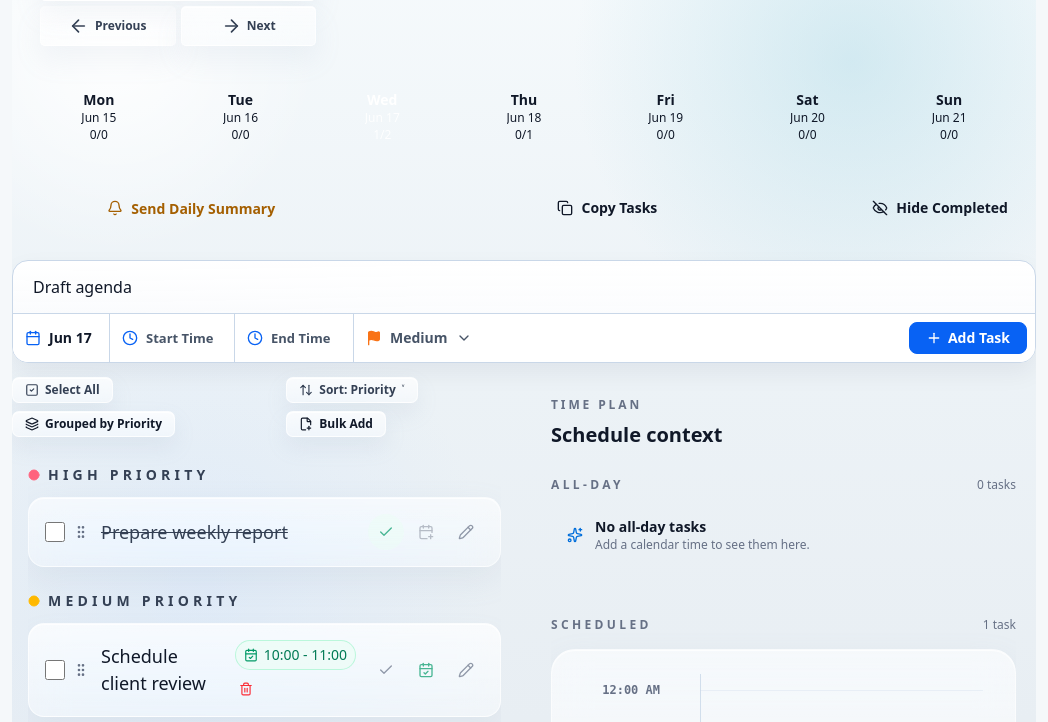
Test: AdminView › renders priority as a dropdown menu with selected and option flags
(page scrolled)
Click the dropdown named "Task priority" at (419, 338), box [354,316,484,360]
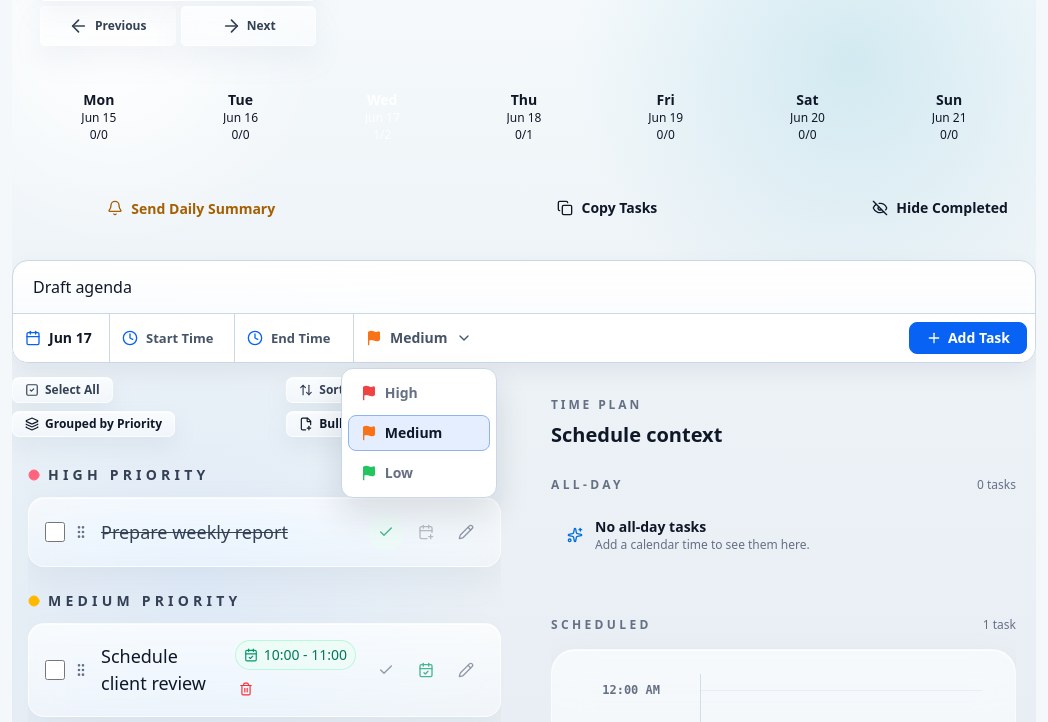
Check: the number of options is 3, box [348,375,490,411]; [348,415,490,451]; [348,455,490,491]
Check: the option "High" is shown, box [348,375,490,411]
Check: the option "Medium" is shown, box [348,415,490,451]
